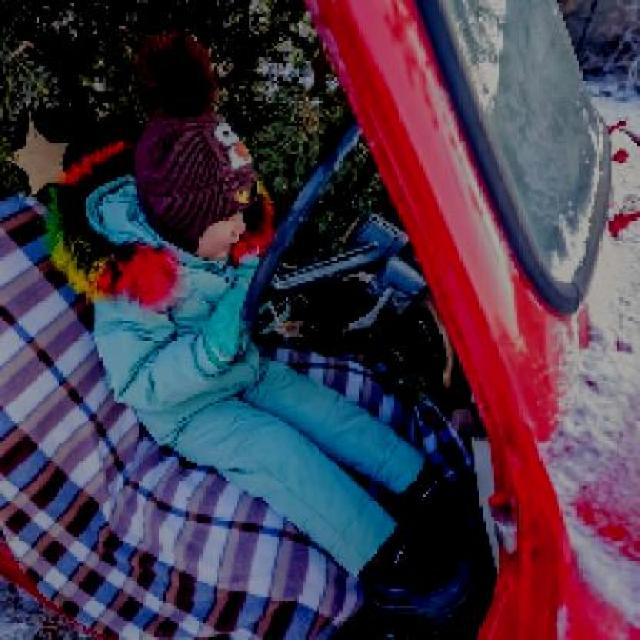child: (40, 26, 483, 623)
